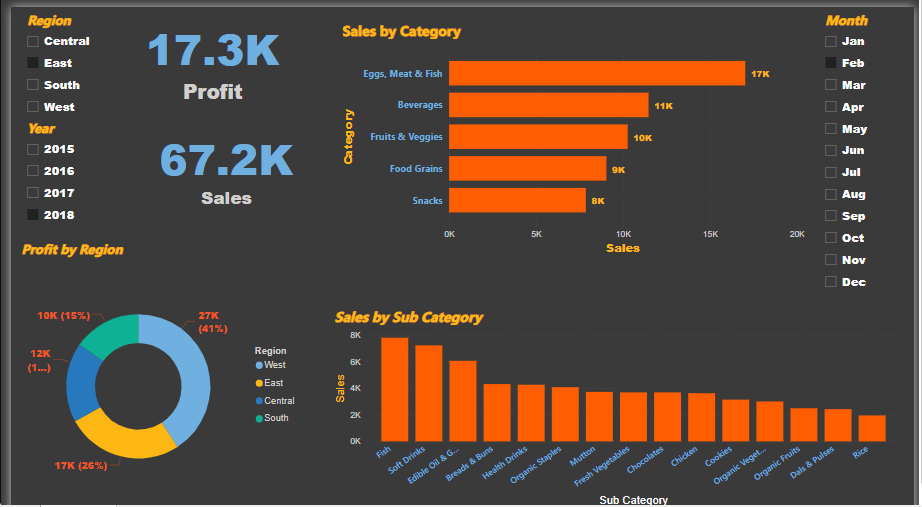

Layout of this report page (visuals, bound fields, positions):
{"tool":"powerbi","page":{"name":"Page 1","canvas":[1280,720],"ordinal":0},"visuals":[{"type":"slicer","fields":{"Values":["Supermart Grocery Sales - Retail Analytics Dataset.Month Name"]},"box":[1140.9,0,138.9,423.8],"z":0},{"type":"slicer","fields":{"Values":["Supermart Grocery Sales - Retail Analytics Dataset.Region"]},"box":[9.9,0,147.4,188.5],"z":3},{"type":"slicer","fields":{"Values":["Supermart Grocery Sales - Retail Analytics Dataset.Year"]},"box":[9.9,153.1,150.2,191.3],"z":4},{"type":"barChart","fields":{"Category":["Supermart Grocery Sales - Retail Analytics Dataset.Category"],"Y":["Sum(Supermart Grocery Sales - Retail Analytics Dataset.Sales)"]},"box":[464.9,18.4,664.7,338.7],"z":5},{"type":"donutChart","fields":{"Category":["Supermart Grocery Sales - Retail Analytics Dataset.Region"],"Y":["Sum(Supermart Grocery Sales - Retail Analytics Dataset.Profit)"]},"box":[9.9,330.2,406.8,389.8],"z":6},{"type":"card","fields":{"Values":["Sum(Supermart Grocery Sales - Retail Analytics Dataset.Profit)"]},"box":[119.1,0,334.5,153.1],"z":7},{"type":"card","fields":{"Values":["Sum(Supermart Grocery Sales - Retail Analytics Dataset.Sales)"]},"box":[157.3,153.1,296.2,151.7],"z":8},{"type":"columnChart","fields":{"Category":["Supermart Grocery Sales - Retail Analytics Dataset.Sub Category"],"Y":["Sum(Supermart Grocery Sales - Retail Analytics Dataset.Sales)"]},"box":[453.5,423.8,810.7,287.7],"z":9}]}

Visuals, with their boxes in screenshot pixels (x1, y1, x2, y2), scaled from the page's 1280x720 canvas onto the 922x507 screenshot:
slicer - Supermart Grocery Sales - Retail Analytics Dataset.Month Name: (822,0,921,298)
slicer - Supermart Grocery Sales - Retail Analytics Dataset.Region: (7,0,113,133)
slicer - Supermart Grocery Sales - Retail Analytics Dataset.Year: (7,108,115,243)
barChart - Supermart Grocery Sales - Retail Analytics Dataset.Category x Sum(Supermart Grocery Sales - Retail Analytics Dataset.Sales): (335,13,814,251)
donutChart - Supermart Grocery Sales - Retail Analytics Dataset.Region x Sum(Supermart Grocery Sales - Retail Analytics Dataset.Profit): (7,233,300,506)
card - Sum(Supermart Grocery Sales - Retail Analytics Dataset.Profit): (86,0,327,108)
card - Sum(Supermart Grocery Sales - Retail Analytics Dataset.Sales): (113,108,327,215)
columnChart - Supermart Grocery Sales - Retail Analytics Dataset.Sub Category x Sum(Supermart Grocery Sales - Retail Analytics Dataset.Sales): (327,298,911,501)
